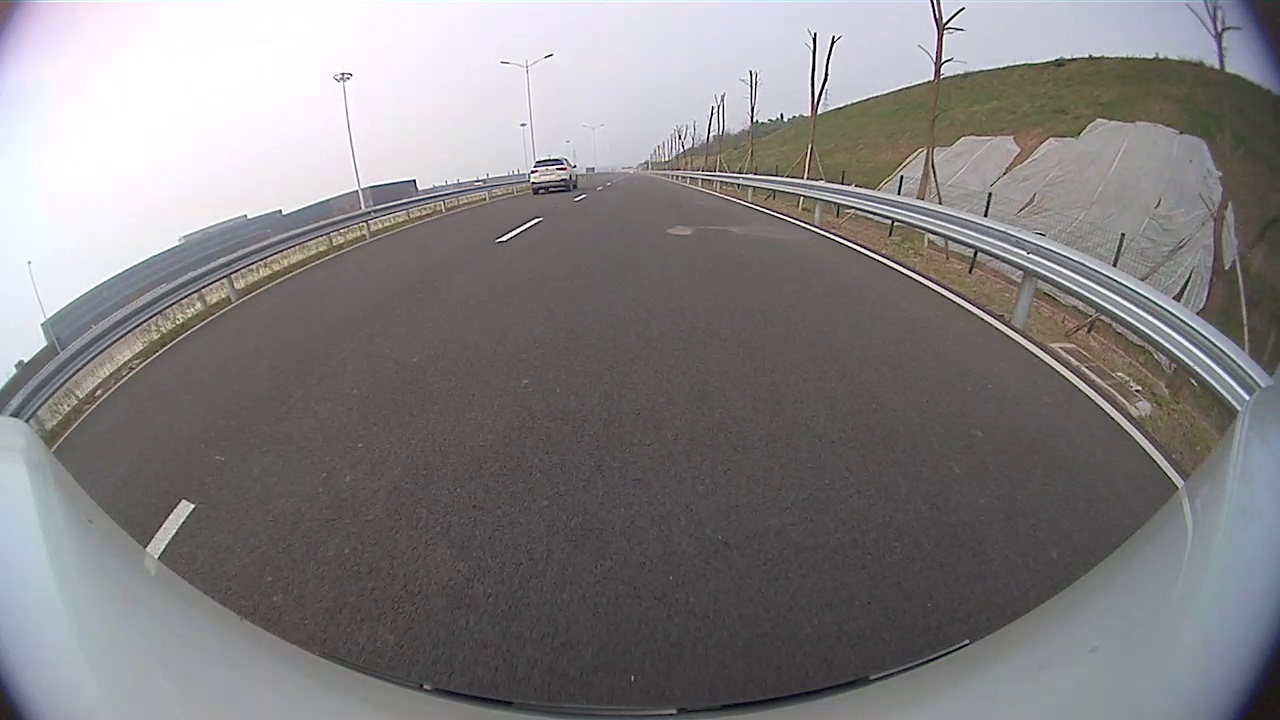car: (528, 156, 579, 196)
